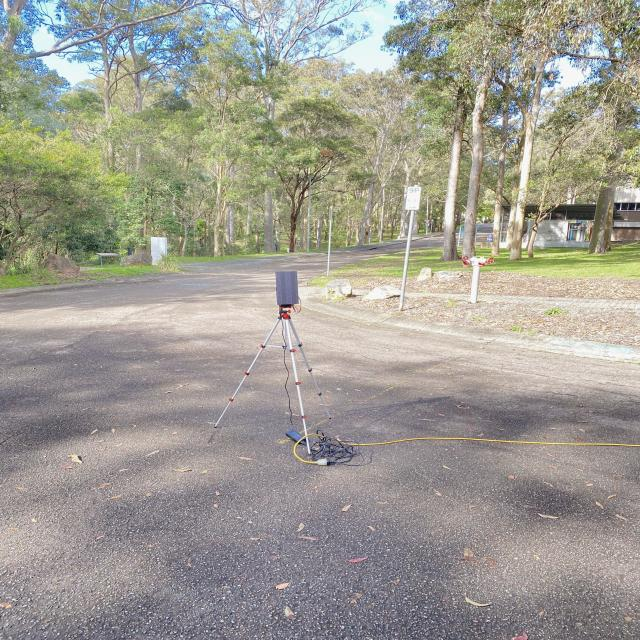matrix: (272, 266, 304, 313)
